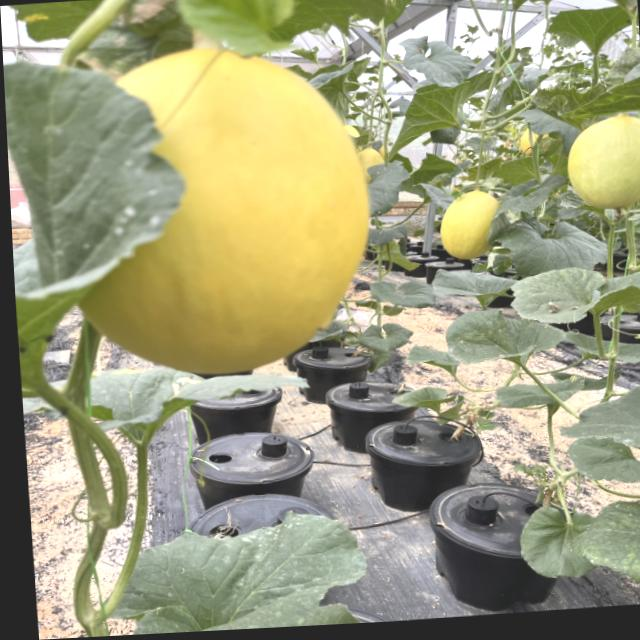SLCV: (528, 47, 640, 129), (595, 0, 638, 13)
downy mildew: (93, 510, 368, 637), (439, 305, 565, 368), (509, 261, 608, 334), (566, 497, 640, 588)
healthy: (558, 378, 640, 491), (380, 77, 473, 161), (505, 217, 612, 277), (516, 501, 597, 578), (545, 3, 634, 54), (396, 33, 475, 90), (428, 264, 516, 310), (362, 159, 416, 218), (495, 172, 568, 215), (387, 380, 456, 417), (364, 276, 436, 311), (490, 0, 605, 7)
powdery mildew: (353, 321, 413, 353)
